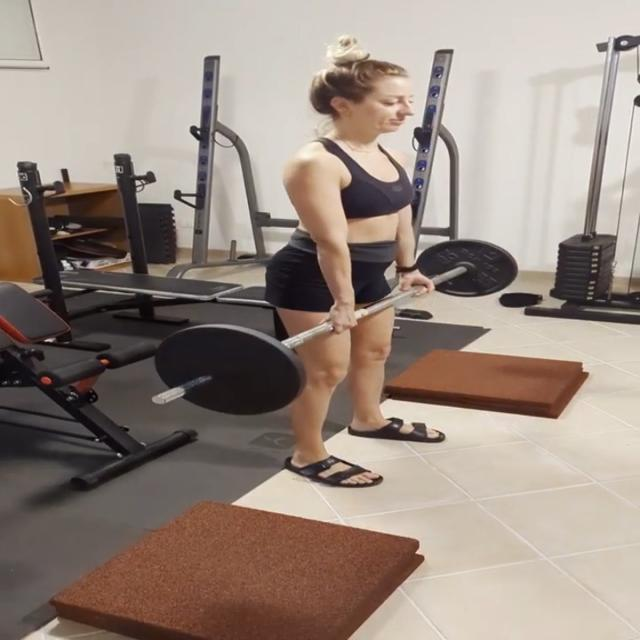barbell: (142, 323, 312, 420)
